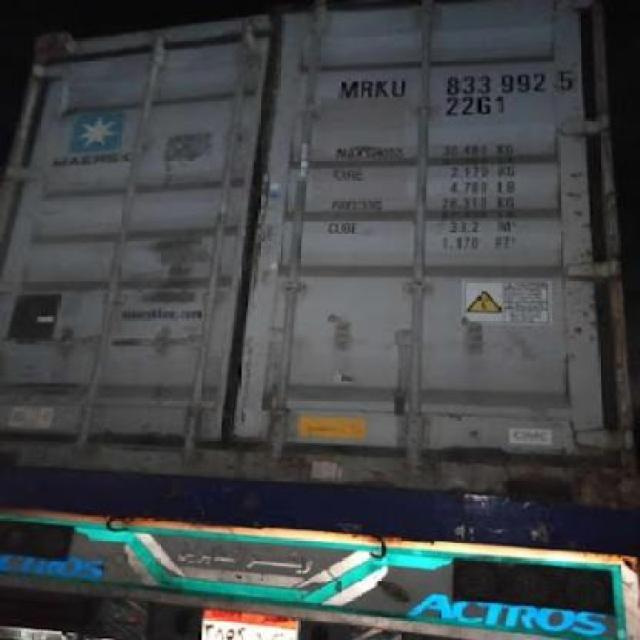ISO: (453, 95, 502, 116)
container_number: (332, 70, 570, 98)
